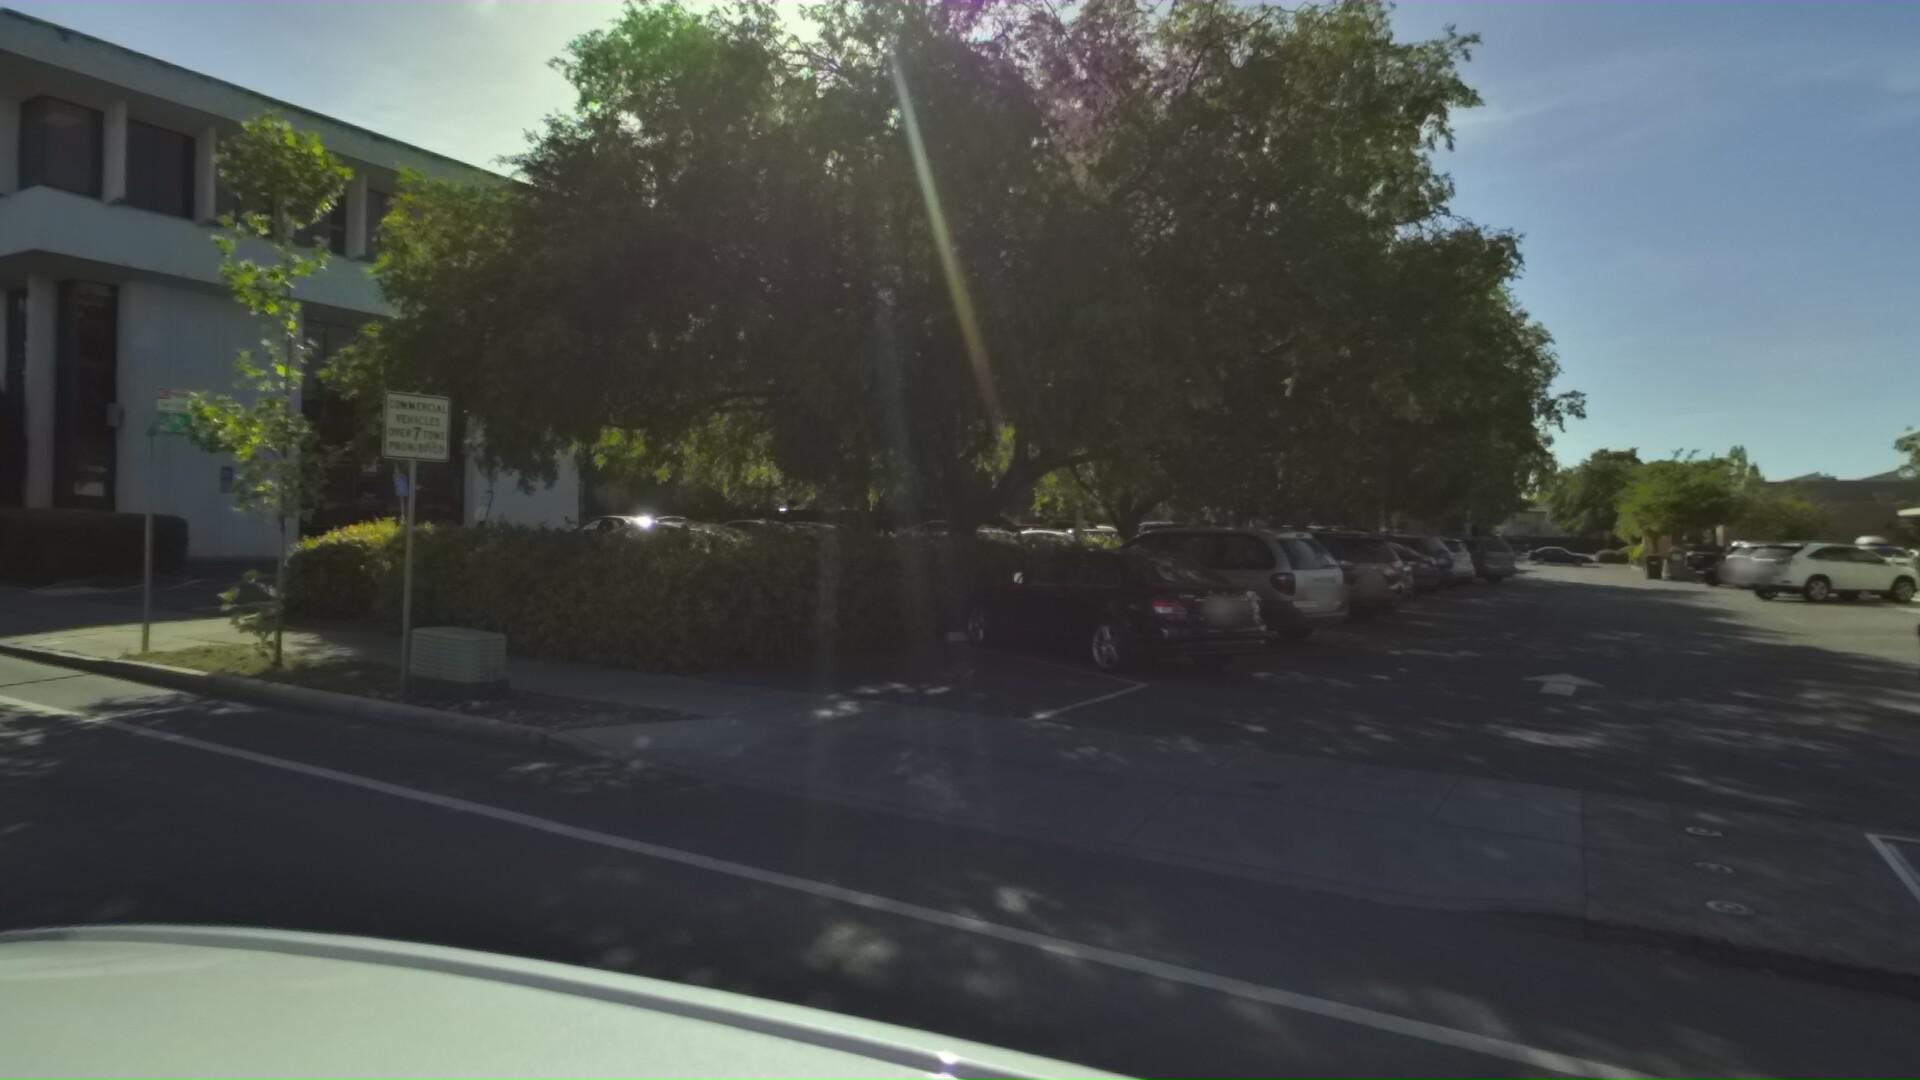car: (931, 535, 1265, 704), (1019, 513, 1348, 665), (1844, 566, 1920, 771), (1513, 537, 1592, 567)
